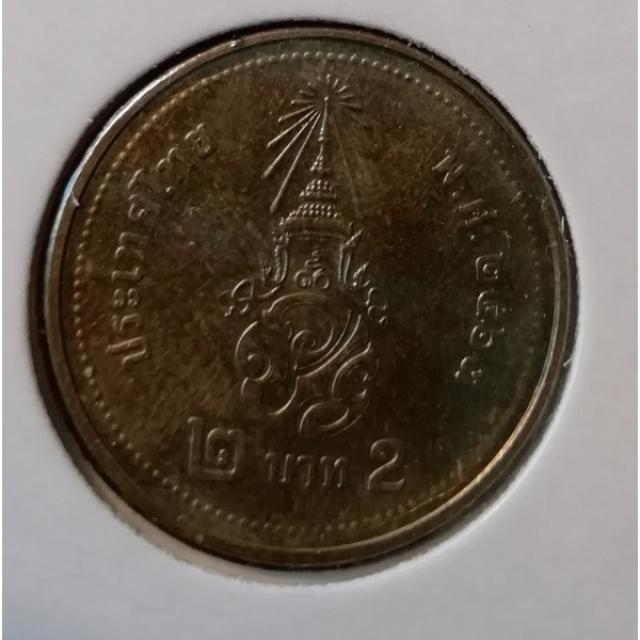2 Bath: (30, 19, 589, 573)
